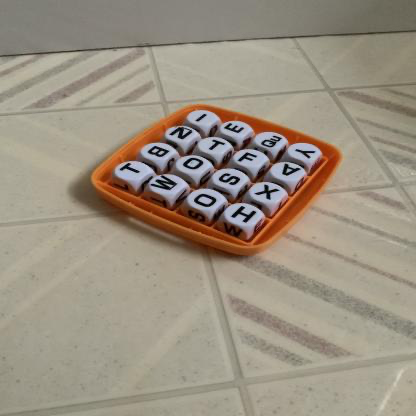a: (276, 161, 305, 181)
b: (181, 155, 209, 175), (146, 142, 173, 160)
e: (222, 121, 248, 137)
f: (235, 149, 261, 167)
h: (230, 204, 260, 225)
i: (192, 111, 214, 128)
n: (167, 125, 197, 142)
o: (192, 191, 223, 211)
qu: (260, 131, 286, 151)
s: (218, 170, 246, 189)
t: (115, 160, 144, 178), (205, 138, 231, 155)
w: (148, 173, 182, 195)
x: (253, 182, 283, 203)
y: (293, 144, 322, 164)
